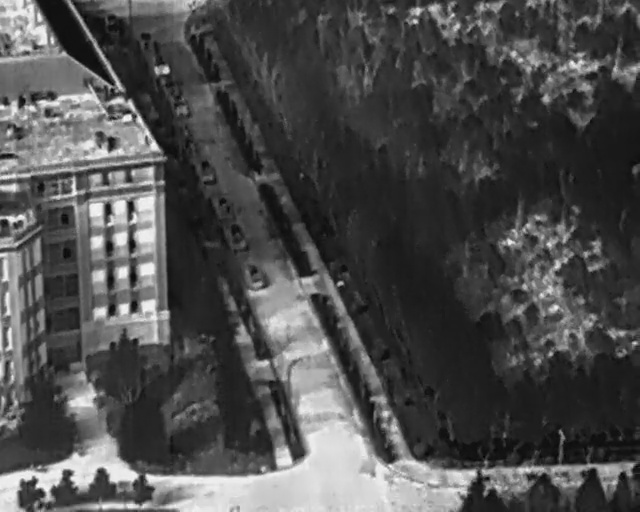Car: (240, 257, 269, 293), (224, 219, 250, 254), (168, 87, 193, 122), (196, 156, 217, 185)
